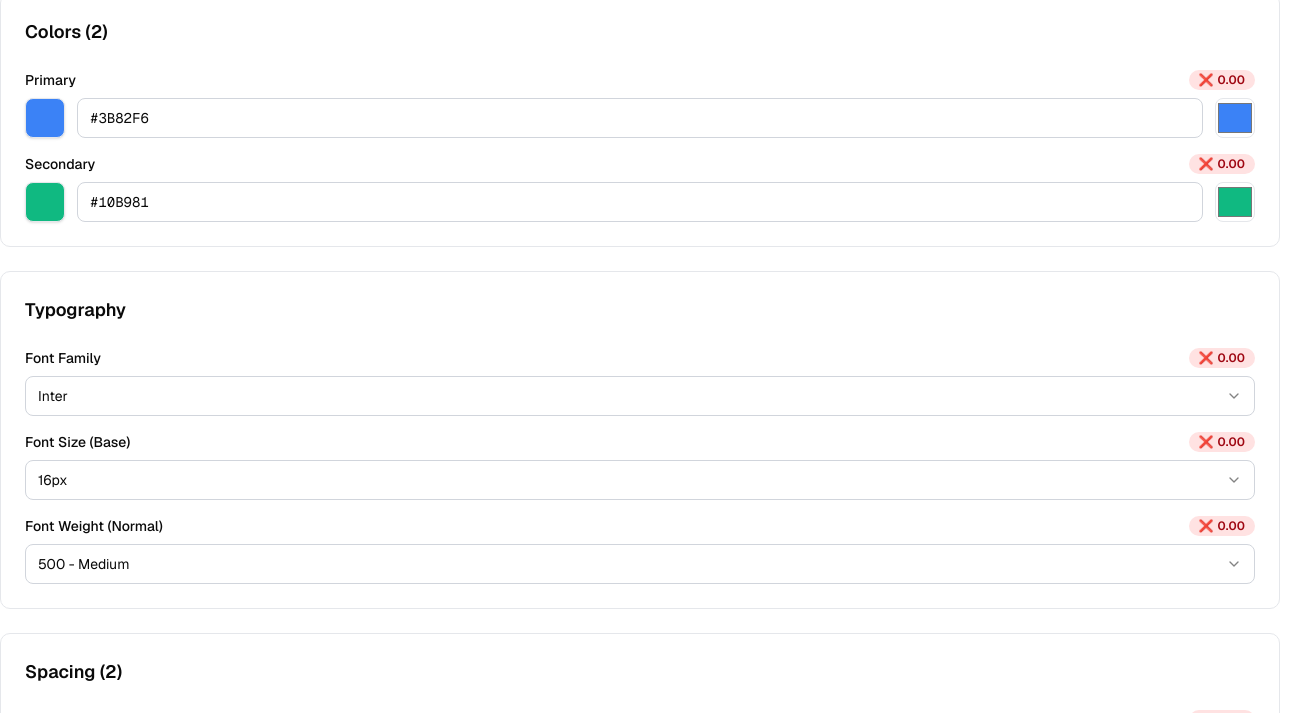
Test: TokenEditor › Color Editing › enables buttons when color changes
Replace the text in the field labelled "Primary" with "#FF5733" at (640, 118), box 77,98 -> 1203,138
(page scrolled)
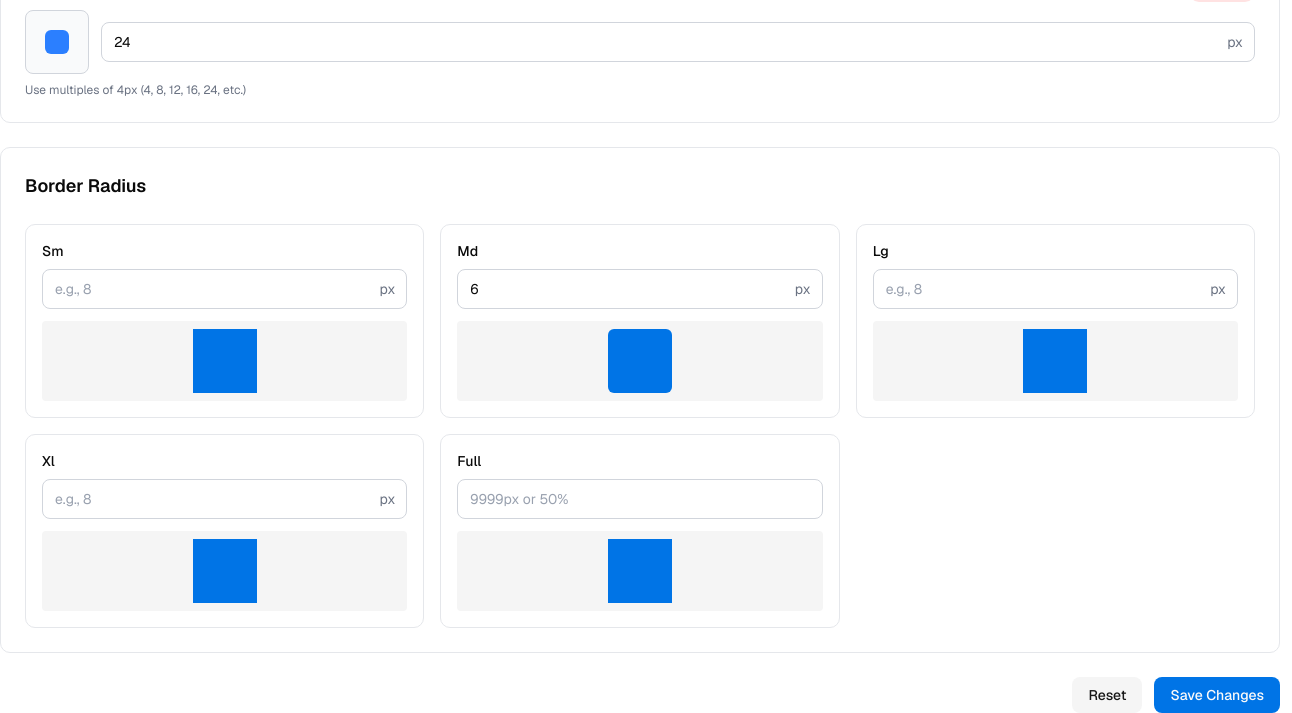
Now the button "Save Changes" is enabled, box 1154,677 -> 1280,712
Now the button "Reset" is enabled, box 1072,677 -> 1142,712
